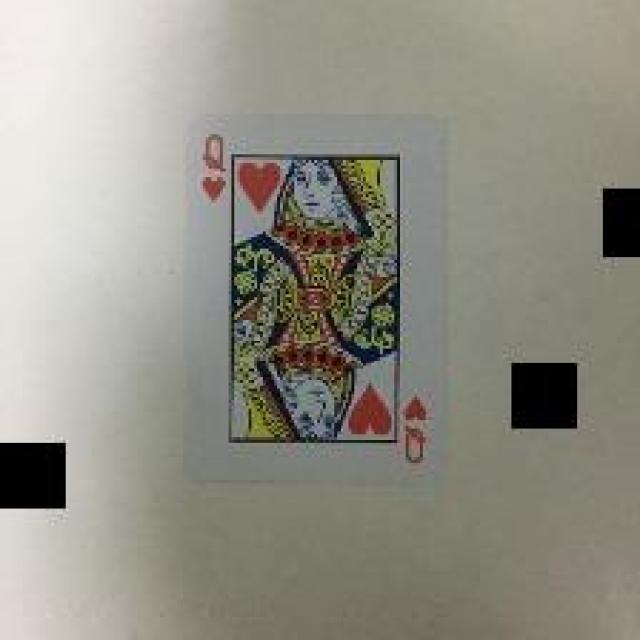Queen of hearts: (185, 120, 443, 478)
